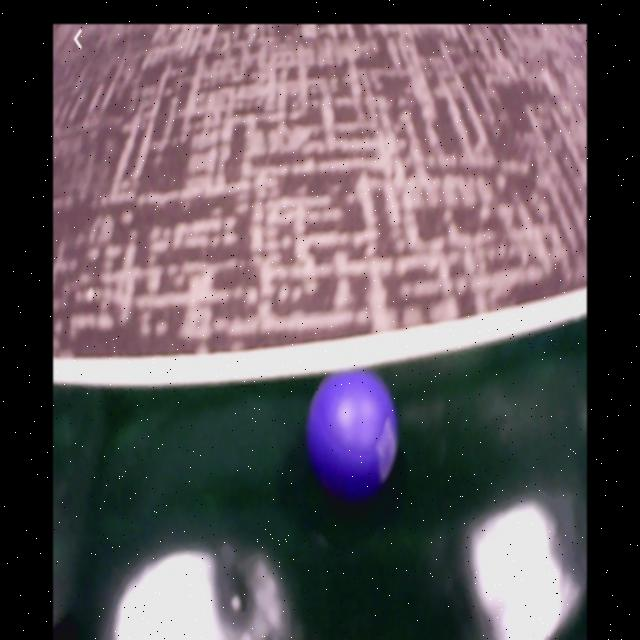ball: (312, 372, 397, 498)
